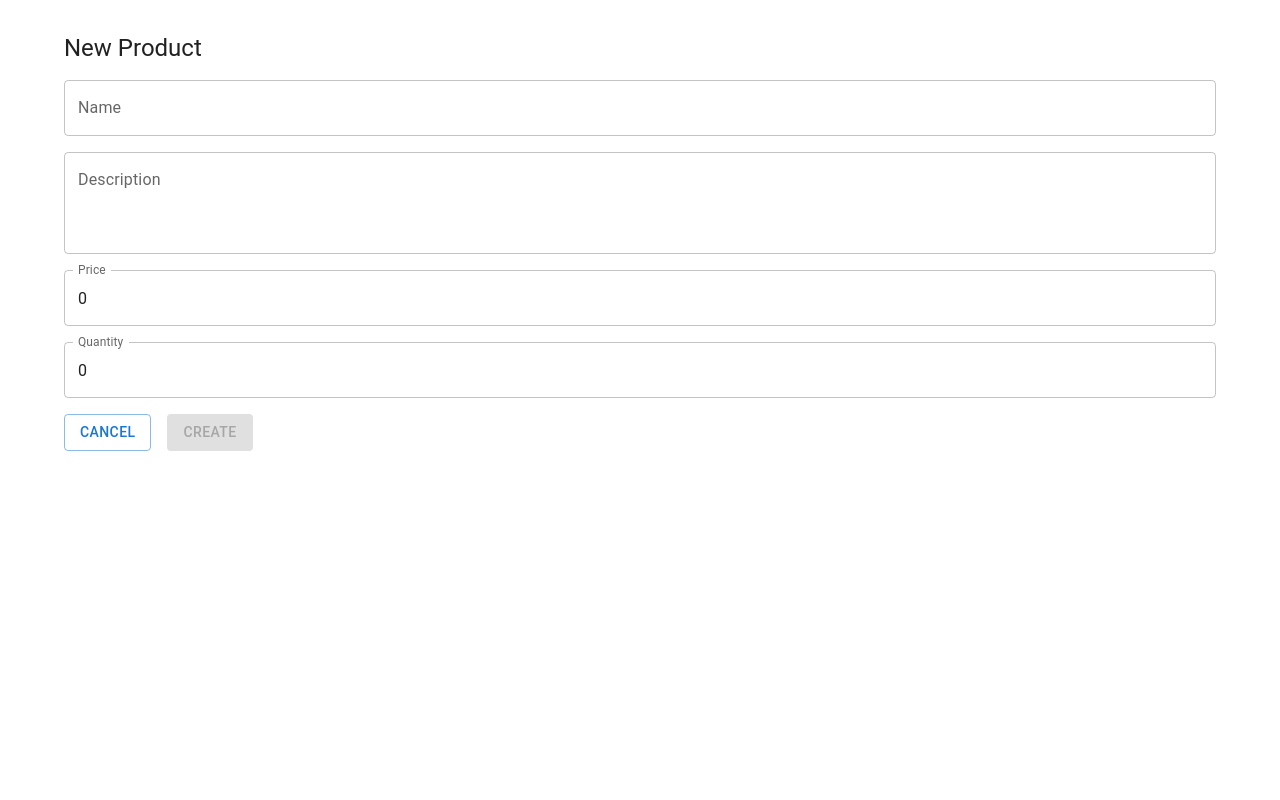
ProductNewPage › error: server error → toast Create product failed
The width and height of the screenshot is (1280, 800).
Type "Laptop" into the field labelled "Name". click: (640, 108)
box: [64,80,1216,136]
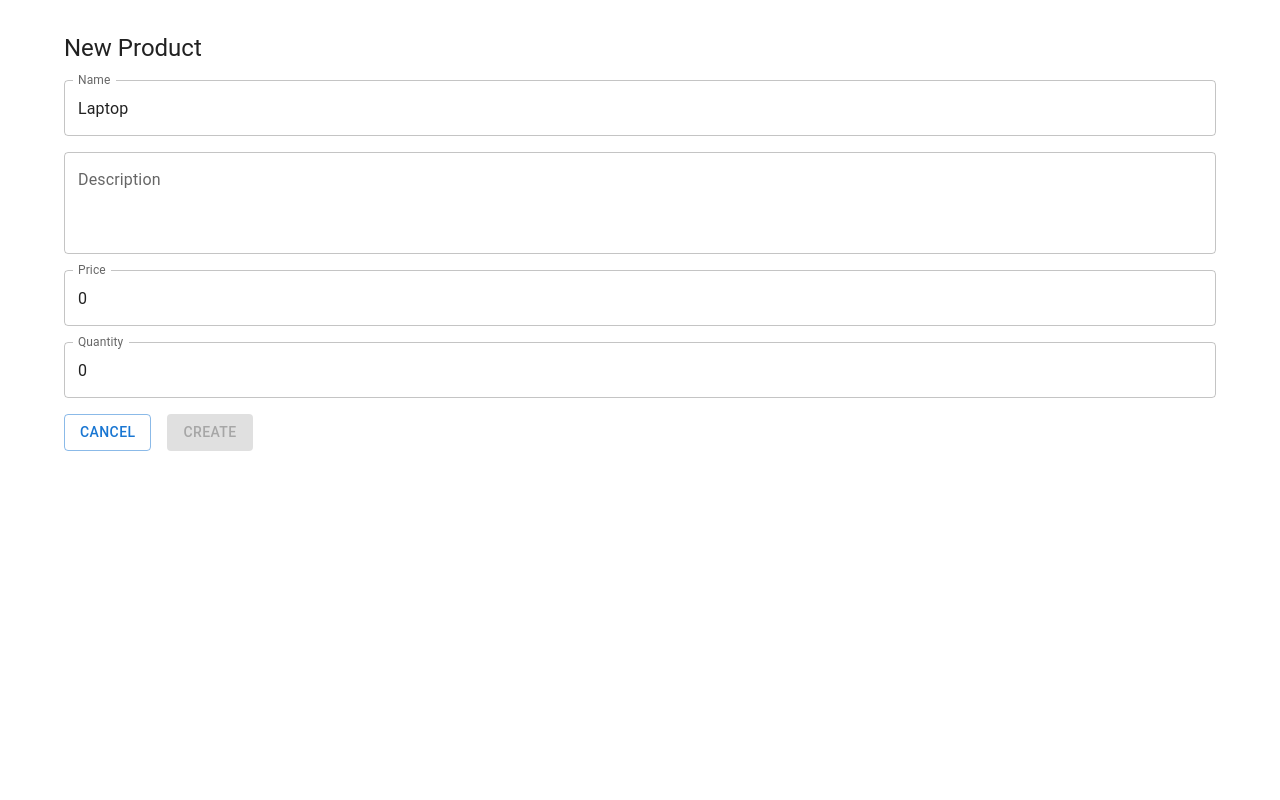
Replace the text in the number field labelled "Price" with "1300.99". click: (640, 298)
box: [64,270,1216,326]
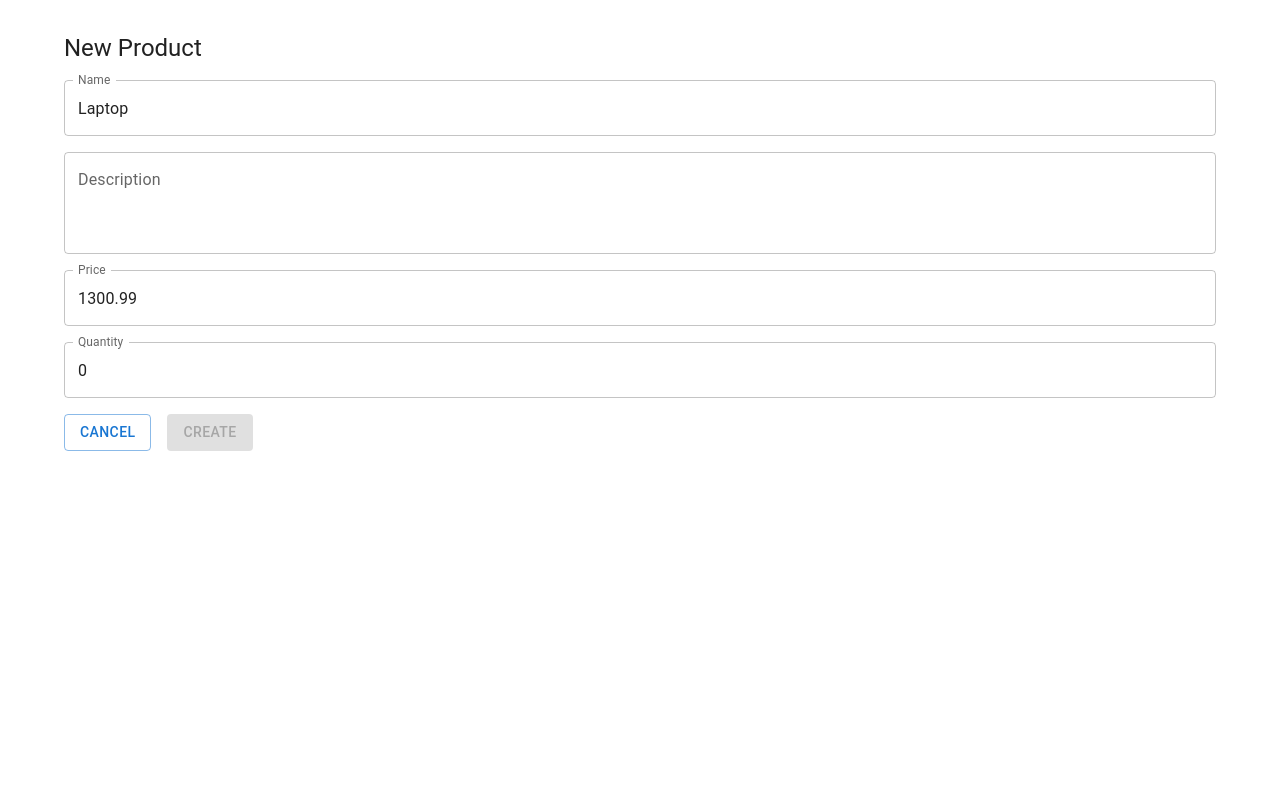
Replace the text in the number field labelled "Quantity" with "3". click: (640, 370)
box: [64,342,1216,398]
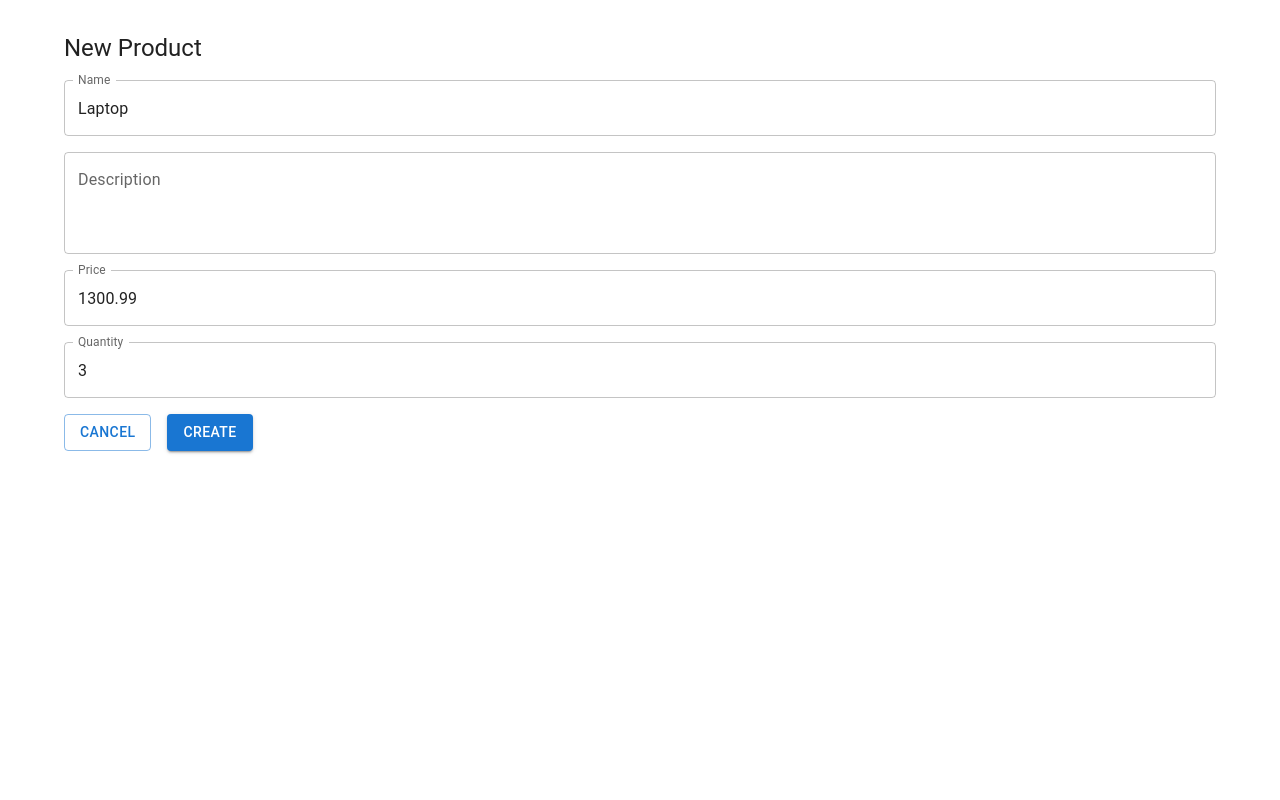
Now the button "Create" is enabled
Click the button "Create". click: click(210, 432)
box: [168,414,253,450]
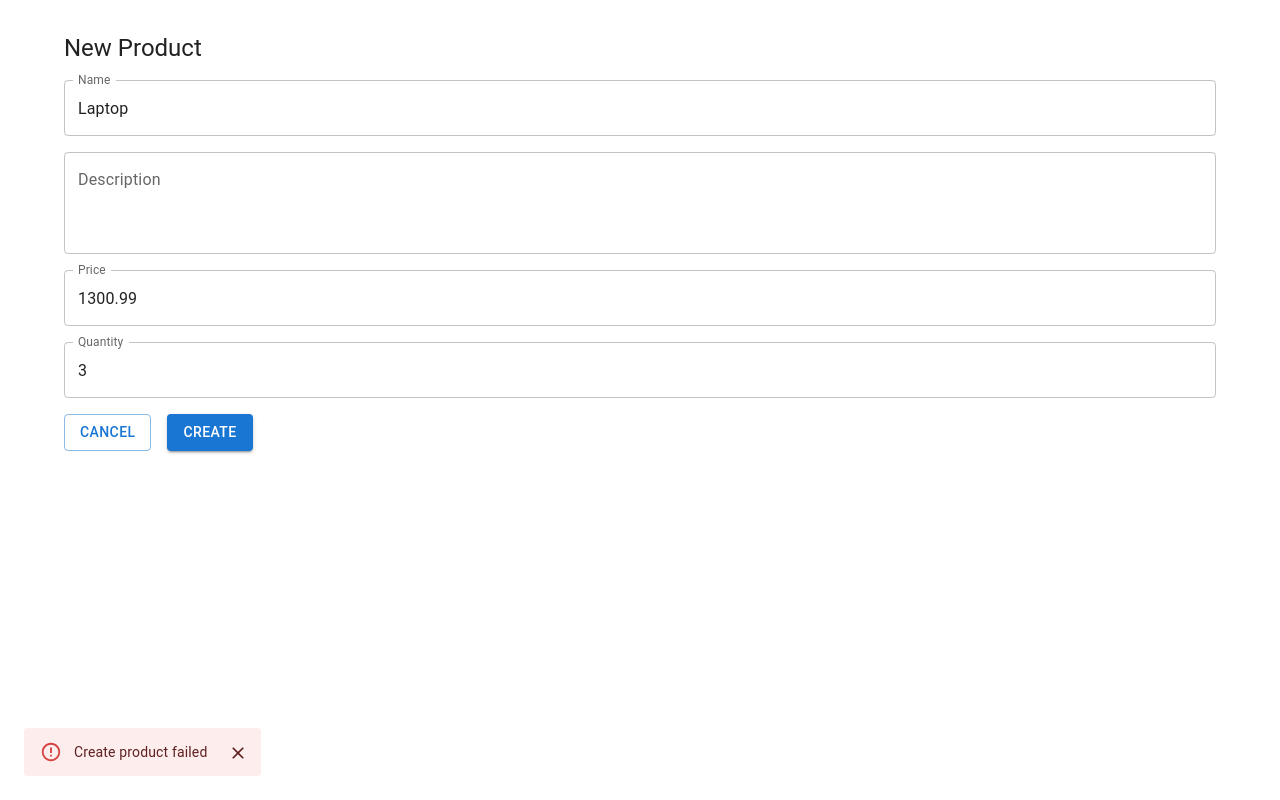
Now the text "Create product failed" is shown, box [74,744,208,760]
